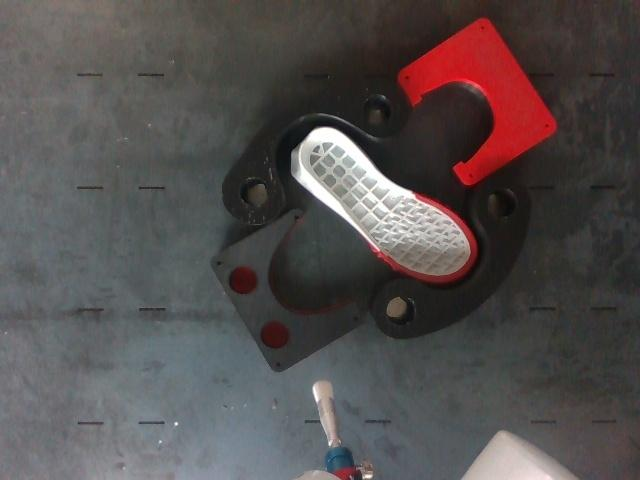shoes: (300, 128, 474, 281)
